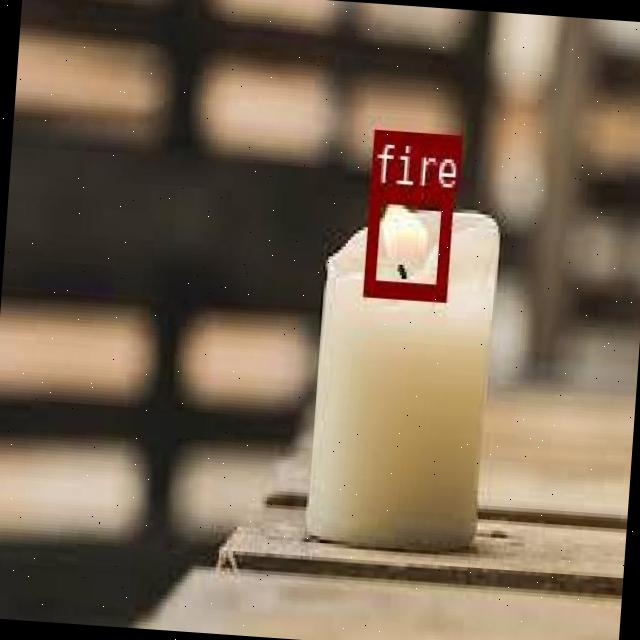fire: (362, 182, 450, 296)
